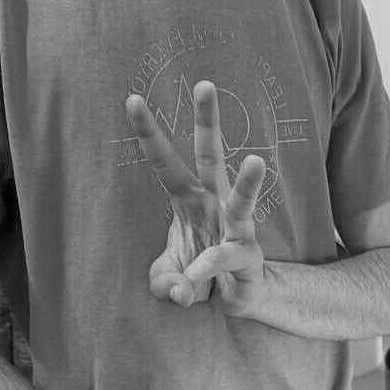W: (124, 80, 266, 318)
